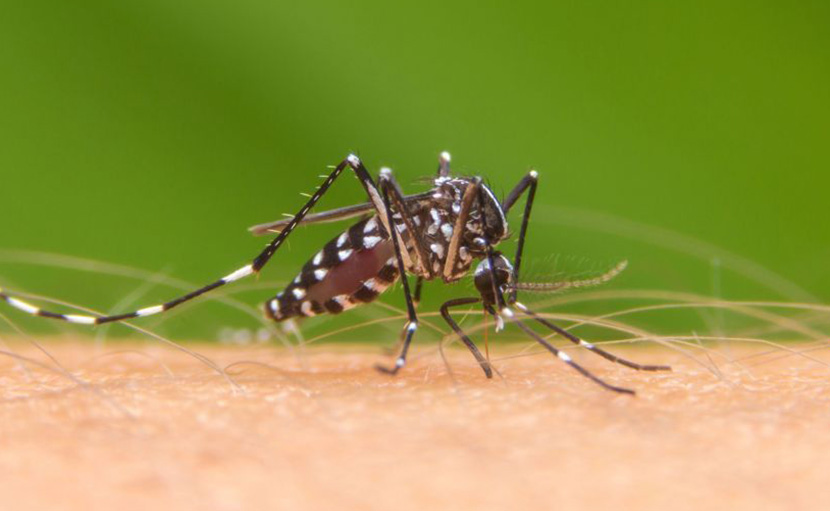dengue_mosquito: (1, 153, 669, 396)
